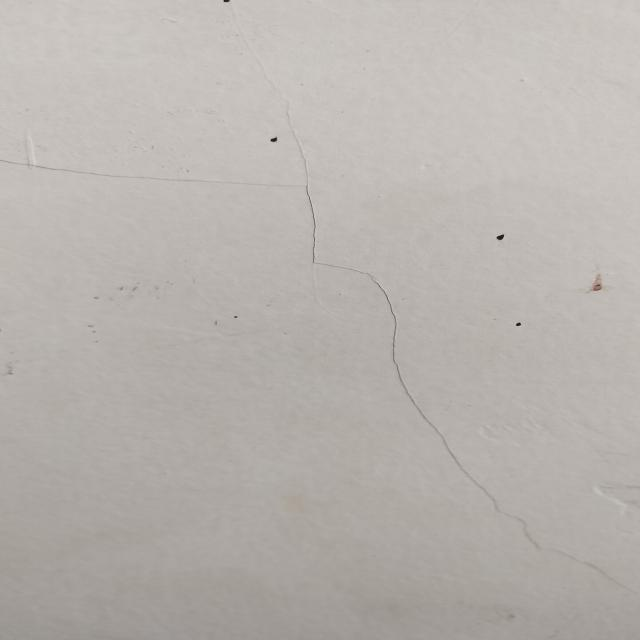Crack: (2, 155, 640, 587)
